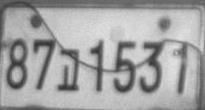1: (85, 38, 111, 92), (170, 41, 195, 94)
3: (138, 41, 164, 93)
5: (112, 40, 136, 93)
7: (33, 38, 56, 90)
8: (5, 37, 28, 90)
고: (56, 48, 79, 91)
